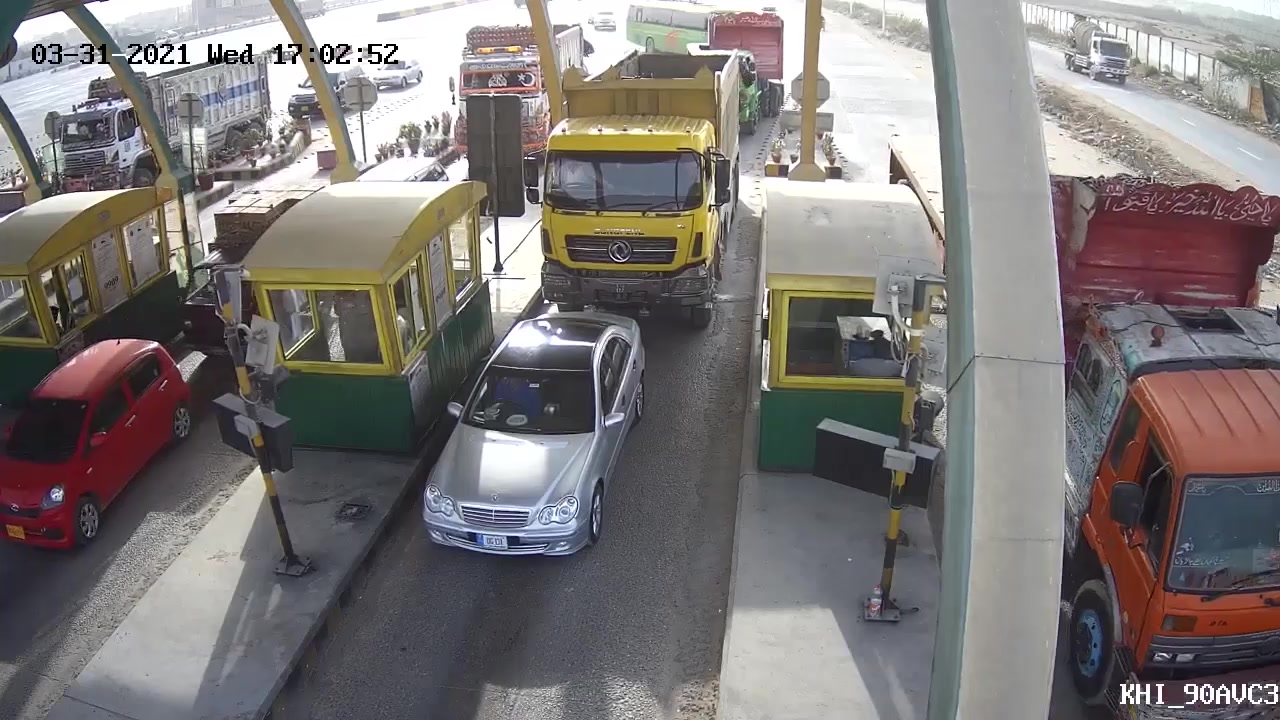F1: (399, 307, 668, 592)
F5: (537, 45, 750, 332)
